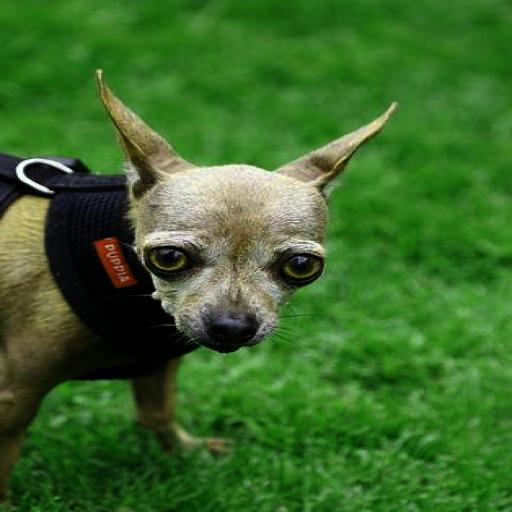dog_face: (87, 65, 415, 352)
